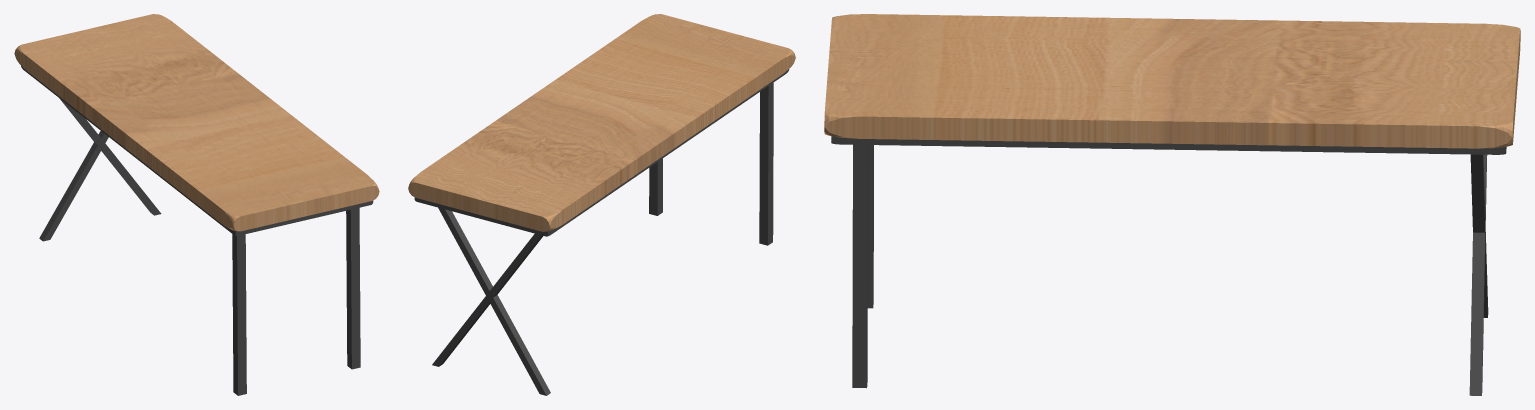
The model's file is table.glb.
The picture shows the model from 3 angles, left to right: view 1: azimuth 30°, elevation 25°; view 2: azimuth 150°, elevation 25°; view 3: azimuth 270°, elevation 25°; orthographic projection. The views are drawn at different scales.
Parts seen in each view (by area): view 1: Plane.001, Plane.003; view 2: Plane.001, Plane.003; view 3: Plane.001, Plane.003.
Boxes of the visible parts, <box> form: Plane.001: <box>14,14,379,231</box>; Plane.003: <box>21,66,373,395</box>; Plane.001: <box>408,14,795,231</box>; Plane.003: <box>414,69,789,395</box>; Plane.001: <box>824,14,1520,148</box>; Plane.003: <box>831,136,1506,395</box>.
Bounding box in the file's own units: 3.61 × 4.18 × 9.38.
2 materials, 1 textured.
